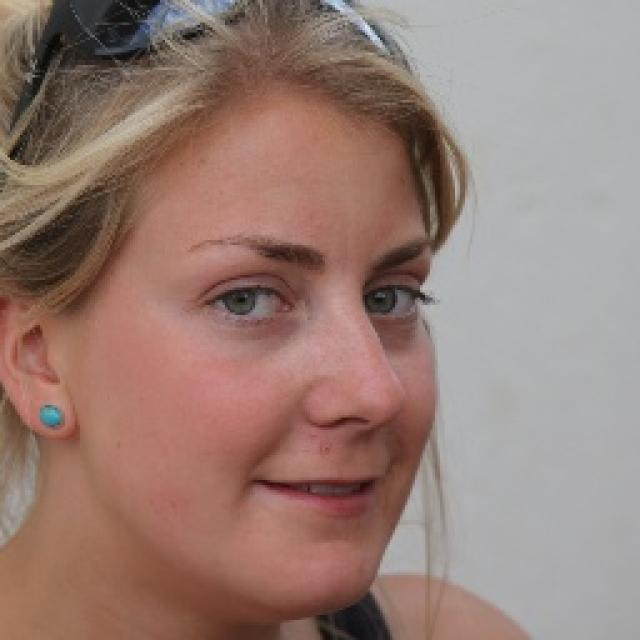earlobe: (22, 377, 77, 443)
eye: (200, 280, 296, 320), (363, 281, 420, 317)
nose: (306, 423, 387, 467)
wholeear: (0, 281, 81, 444)
